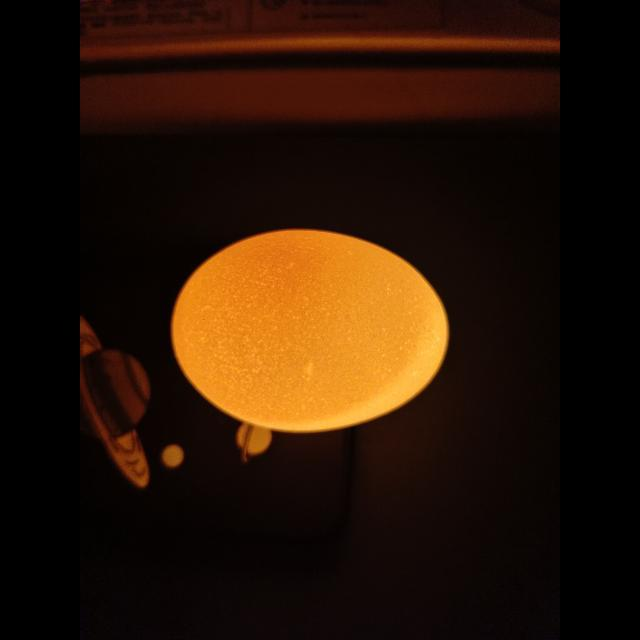AA - Premium: (171, 230, 449, 433)
